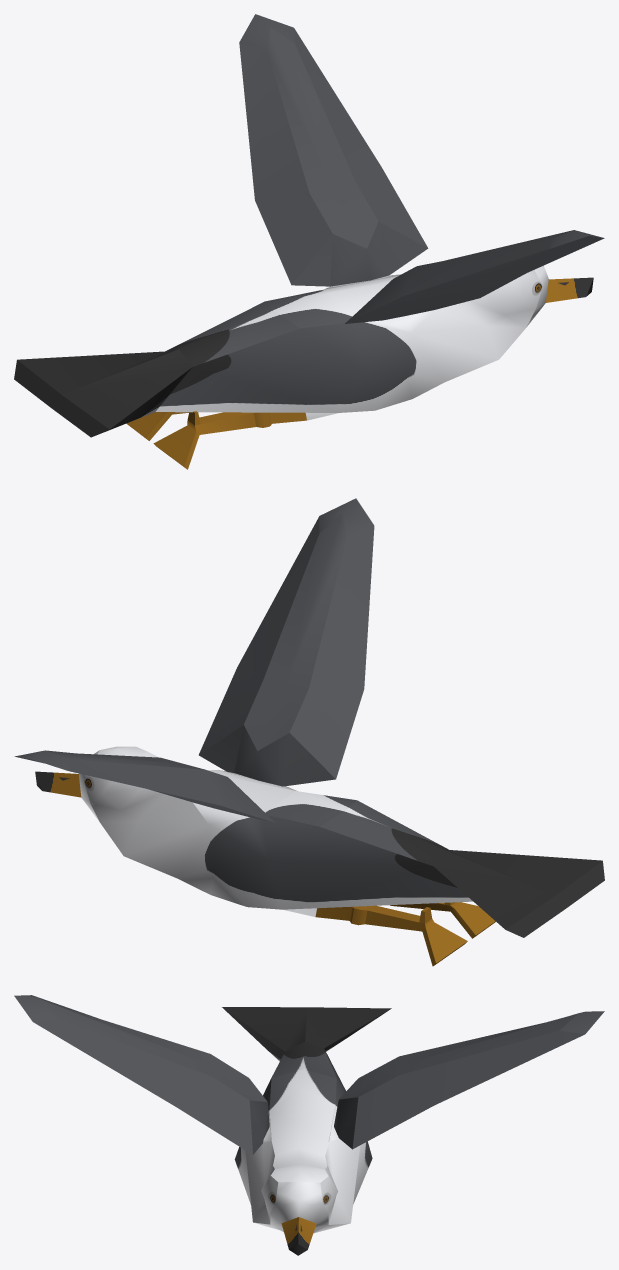
Rendered from bird_1.glb.
3 views of the same model, one above another, from view 1: azimuth 30°, elevation 25°; view 2: azimuth 150°, elevation 25°; view 3: azimuth 270°, elevation 25° (orthographic). The views are drawn at different scales.
Parts seen in each view (by area): view 1: Flying_seagull; view 2: Flying_seagull; view 3: Flying_seagull.
Part boxes in pixels (bbox=[...]): Flying_seagull: bbox=[14, 14, 604, 469]; Flying_seagull: bbox=[14, 498, 604, 966]; Flying_seagull: bbox=[14, 995, 604, 1255].
Bounding box in the file's own units: 2.26 × 1.05 × 2.41.
1 material, 1 textured.
